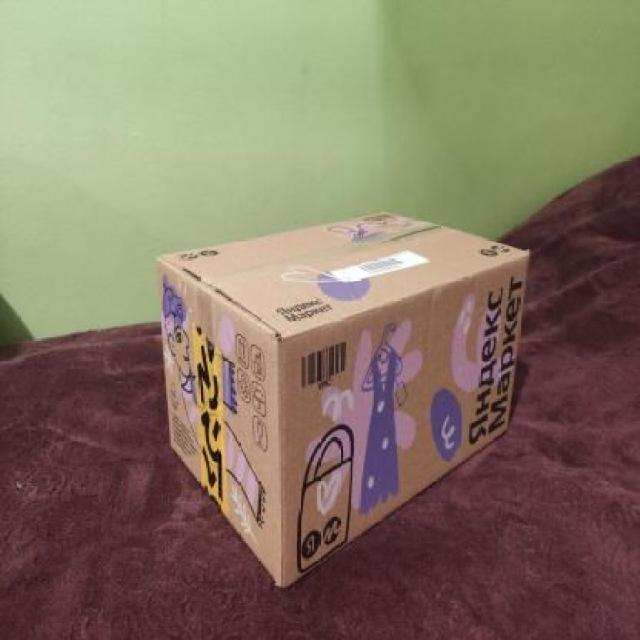box: (153, 208, 535, 590)
